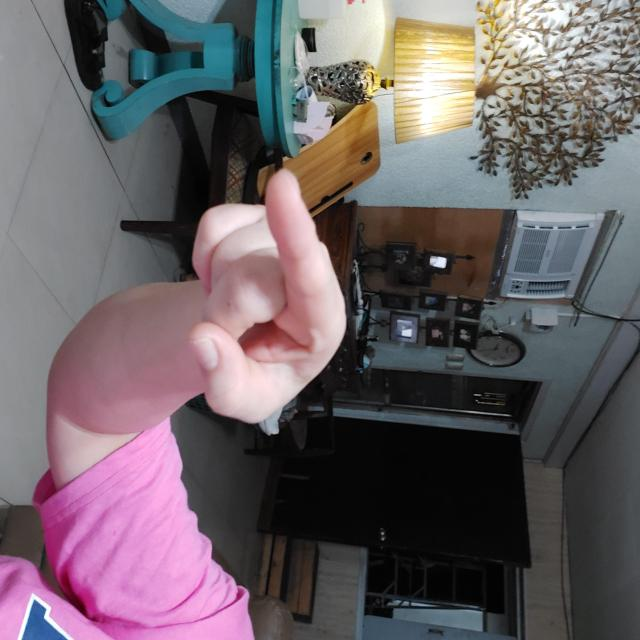Z: (166, 293, 426, 453)
